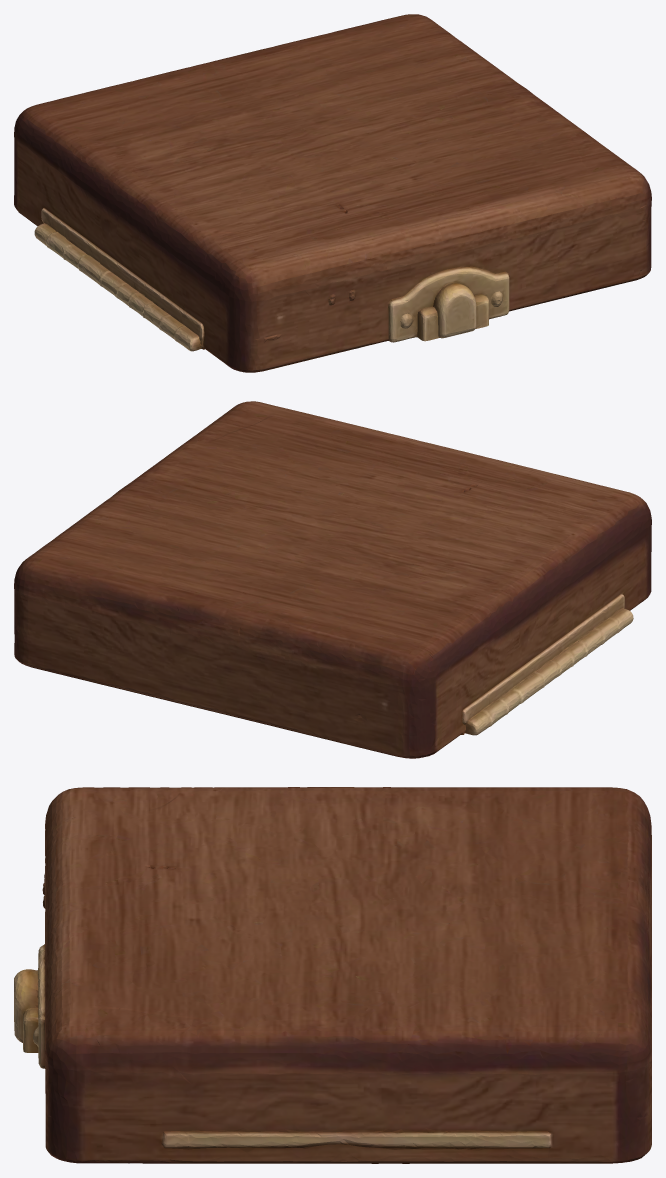
Rendered from lid.glb.
3 renders of one model, top to bottom at view 1: azimuth 30°, elevation 25°; view 2: azimuth 150°, elevation 25°; view 3: azimuth 270°, elevation 25°, orthographic. The views are drawn at different scales.
Visible parts, largest first — view 1: source_surface_0; view 2: source_surface_0; view 3: source_surface_0.
Part boxes in pixels (box(x1,y1,x2,y2)): source_surface_0: box(14, 14, 651, 372); source_surface_0: box(14, 401, 651, 758); source_surface_0: box(14, 787, 651, 1163).
Size of the model in its own units: 0.1192 by 0.0263 by 0.1189.
Materials: 1 (1 with a texture image).
